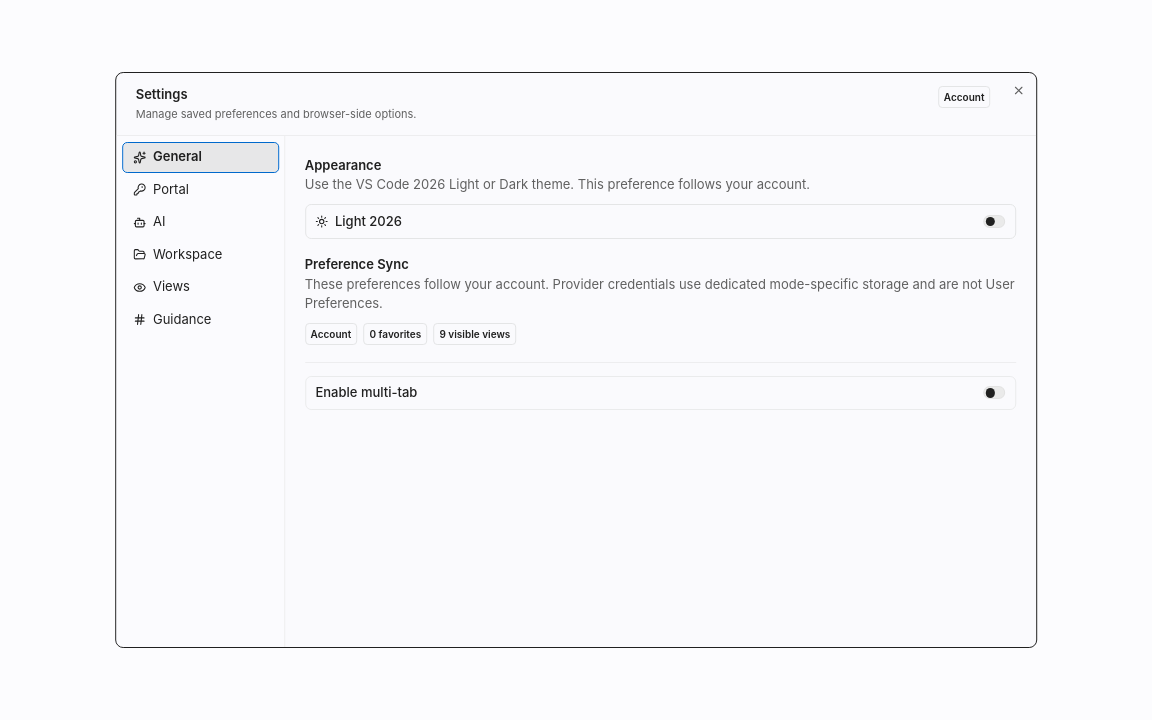
Test: SettingsDialog › renders the AI providers panel in the AI tab
What coordinates should you click on to do the following:
click the tab "AI"
I would click on:
 (200, 222)
Its box is 123,208 -> 278,237.
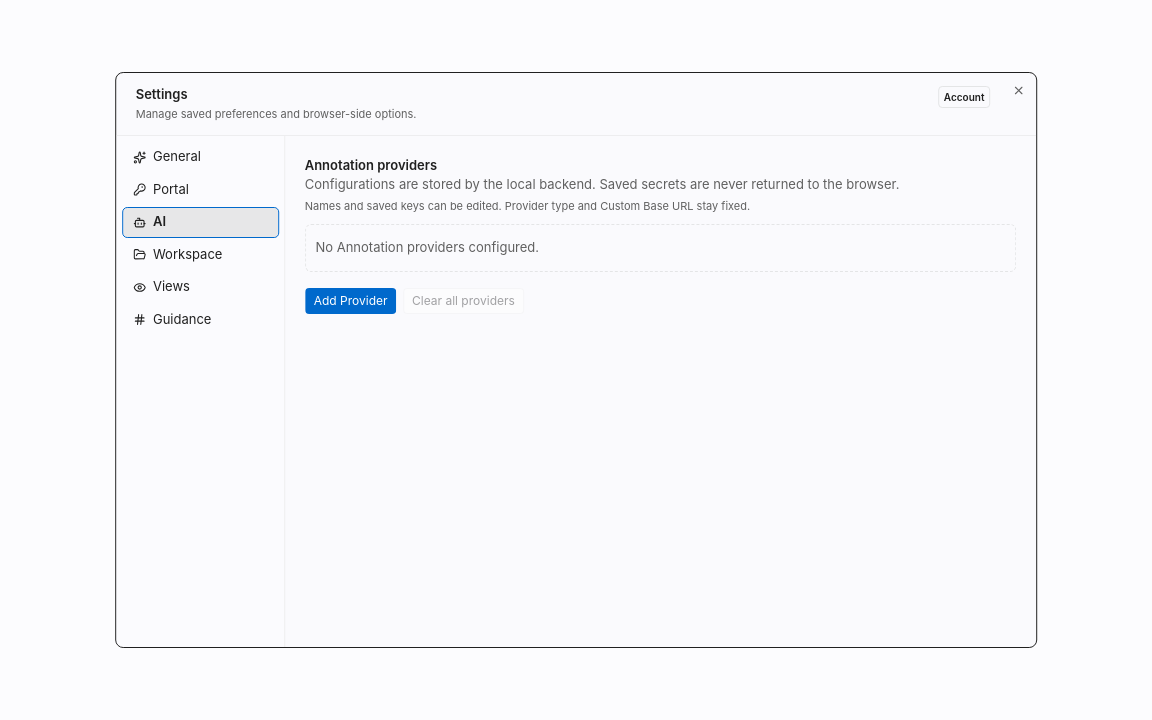
Result: the heading "Annotation providers" is shown at 305,156 -> 437,172
Result: the text "No Annotation providers configured." is shown at 305,224 -> 1016,272
Result: the button "Add Provider" is shown at 305,288 -> 396,314
